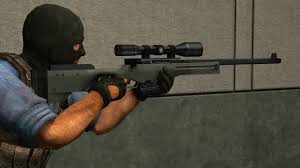gun: (30, 39, 282, 111)
